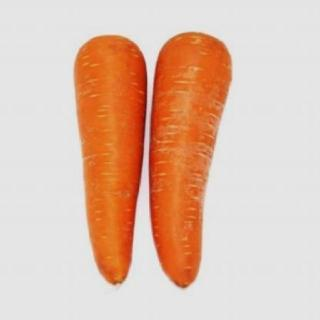carrot: (148, 30, 234, 292), (72, 31, 145, 291)
